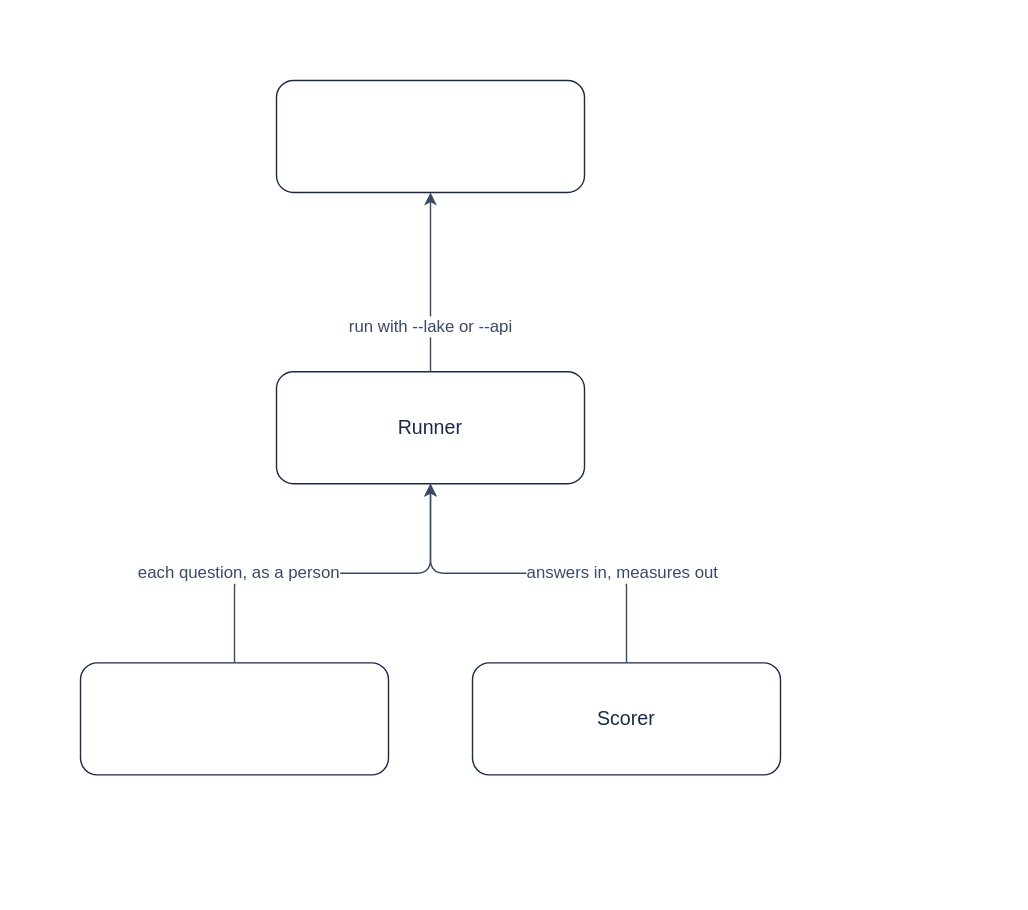
This 1028x910 diagram has some shape labels left out. Each missing label, with the centre of its shape:
"Agent" goes at (x=233, y=718).
"Evaluator" goes at (x=429, y=135).
